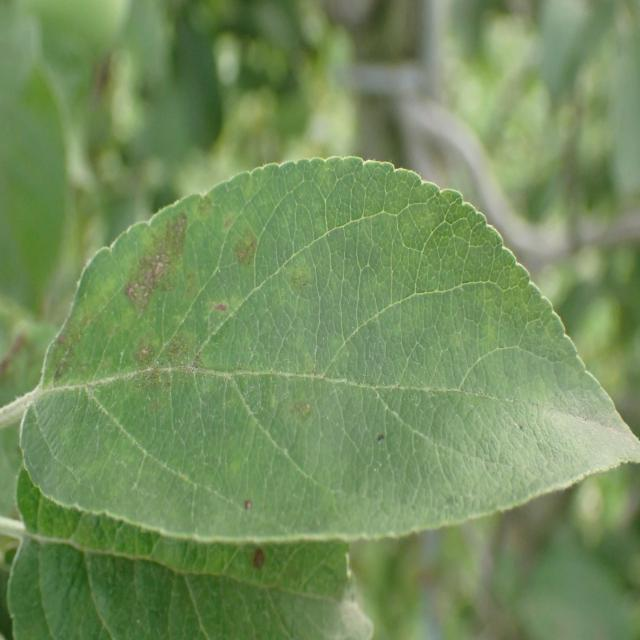scab: (20, 193, 345, 420)
